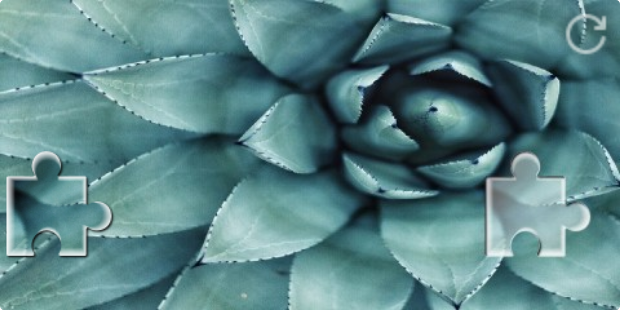target: (486, 152, 591, 258)
